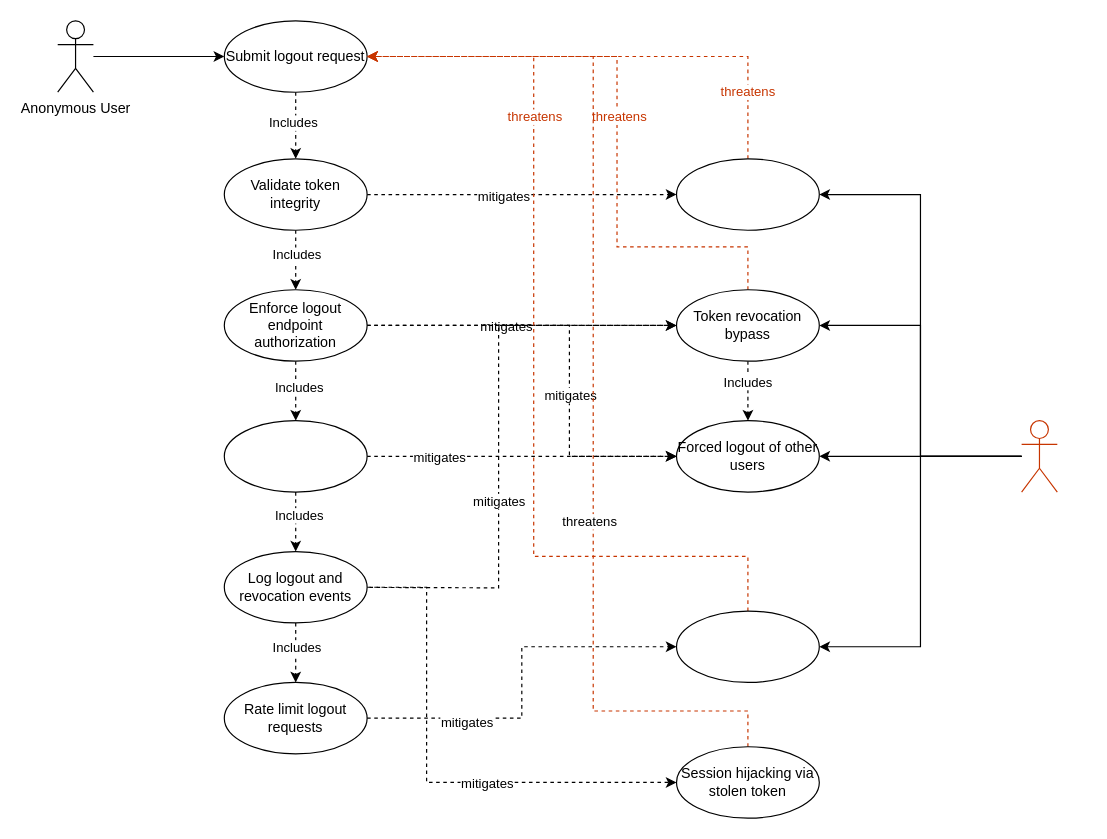
Some shapes in this 1107 by 839 pixel diagram are drawn without their labels. The centre of each missing label's shape, as x and y in pixels:
Logout endpoint flooding: point (747, 646)
Malicious User: point (1038, 455)
Tampered logout request: point (747, 194)
Use safe error responses: point (295, 455)
